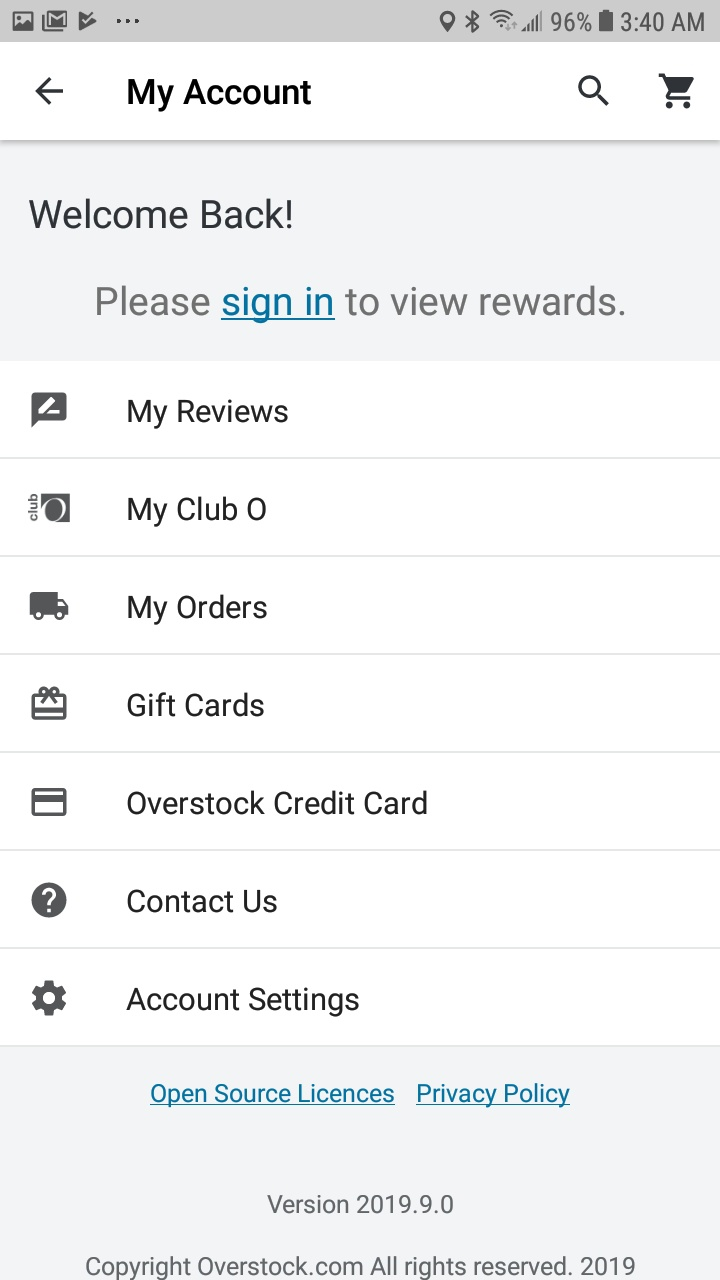Icon: (658, 73, 695, 110), (32, 882, 68, 919), (32, 392, 68, 429), (32, 980, 68, 1016), (31, 686, 68, 721), (577, 75, 610, 108), (31, 788, 68, 817), (35, 77, 65, 106)
Image: (28, 493, 71, 523), (30, 592, 70, 621)
Text: (97, 285, 625, 325), (86, 1255, 636, 1280), (29, 198, 293, 230), (127, 790, 428, 816), (126, 987, 360, 1018), (128, 79, 312, 114), (150, 1083, 396, 1108), (128, 399, 289, 430), (128, 594, 268, 626), (128, 496, 267, 528), (416, 1082, 571, 1108), (128, 888, 278, 913), (267, 1194, 454, 1214), (128, 692, 265, 718)
UpperTaskBar: (1, 1, 720, 43)
